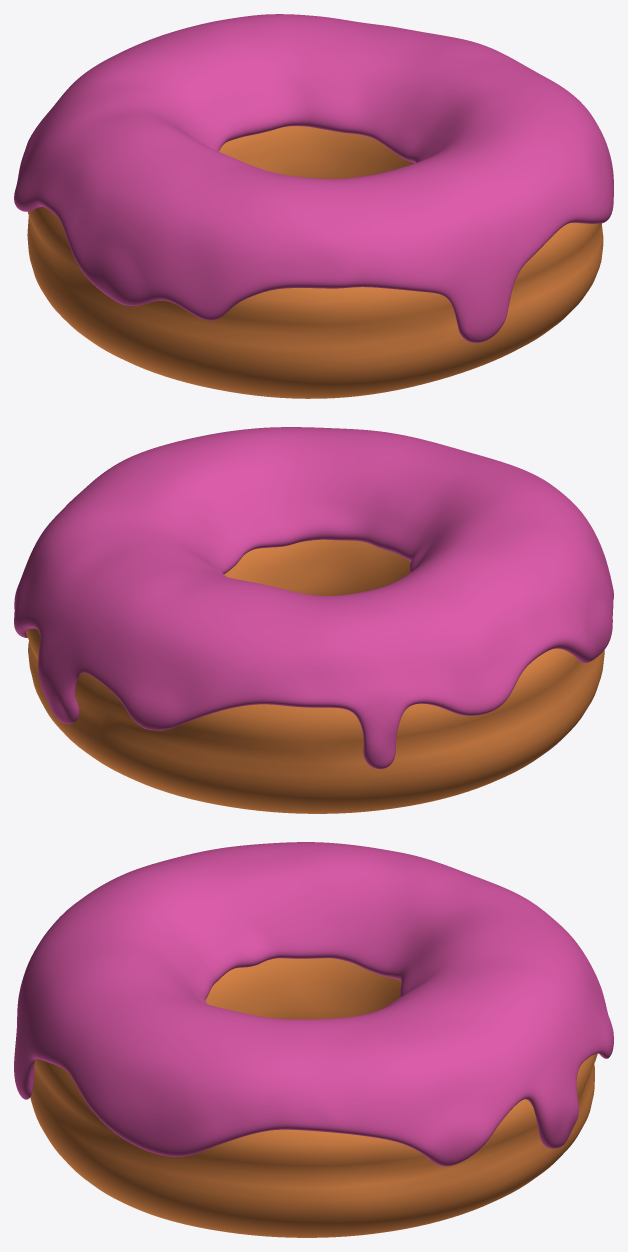
Rendered from donut.fbx.
The picture shows the model from 3 angles, top to bottom: view 1: azimuth 30°, elevation 25°; view 2: azimuth 150°, elevation 25°; view 3: azimuth 270°, elevation 25°; orthographic projection.
Parts seen in each view (by area): view 1: Icing, Doughnut; view 2: Icing, Doughnut; view 3: Icing, Doughnut.
Boxes of the visible parts, <box> form: Icing: <box>14,14,613,342</box>; Doughnut: <box>27,126,603,398</box>; Icing: <box>14,427,613,769</box>; Doughnut: <box>26,539,604,813</box>; Icing: <box>14,842,613,1166</box>; Doughnut: <box>30,958,597,1237</box>.
Size of the model in its own units: 14.53 by 5.73 by 14.73.
